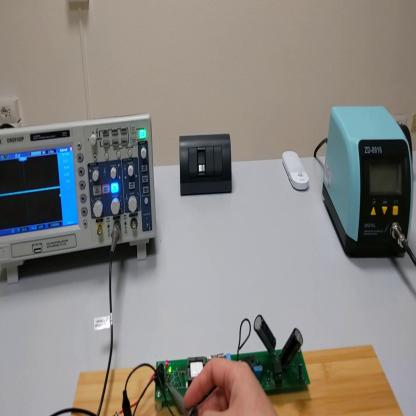hand: (185, 354, 279, 416)
high voltage board: (127, 314, 314, 407)
oscilloscope: (2, 116, 159, 286)
oscilloscope probe tip: (166, 380, 194, 415)
welder station: (323, 106, 414, 262)
working area: (70, 348, 404, 416)
